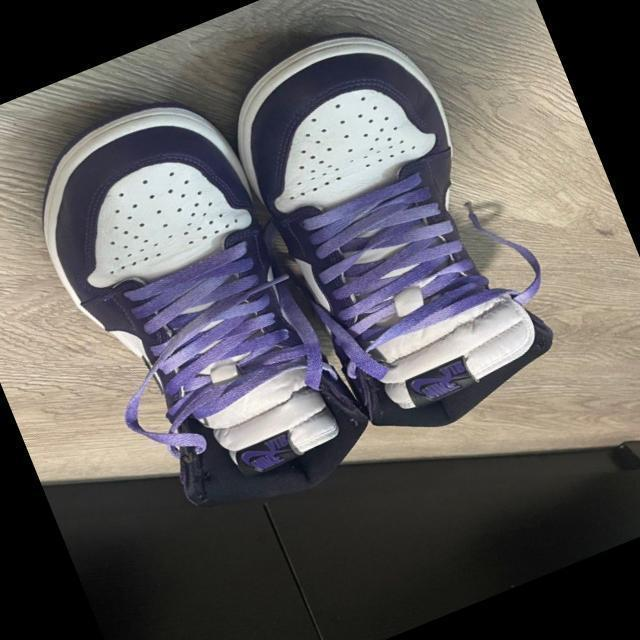nike original jordan 1: (4, 66, 395, 551), (206, 0, 569, 462)
